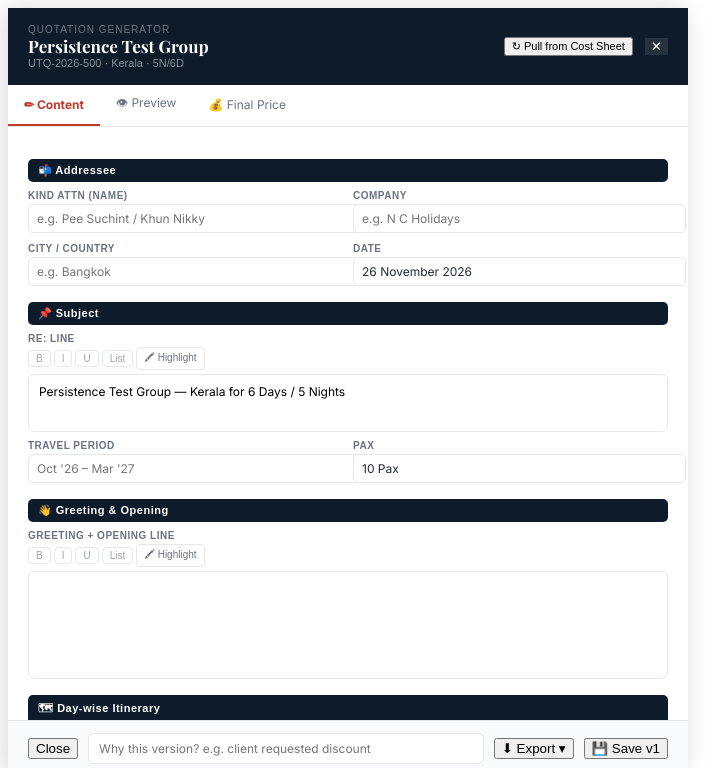
Test: QuotationGenerator: "Pull from Cost Sheet" (#11/#12 -- addressee, itinerary, accommodation, cost without retyping) › a costSheetId that no longer matches any saved version (e.g. that exact version was superseded) still pulls successfully from whatever the latest version now is
The width and height of the screenshot is (708, 768).
Click the button "↻ Pull from Cost Sheet".
click(568, 46)  # box 504,37 -> 633,56
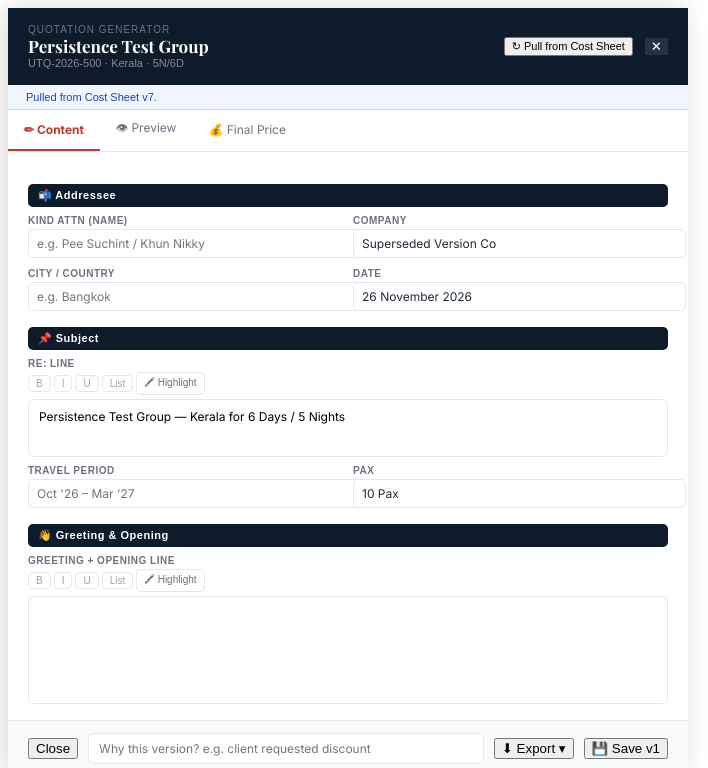
Check: the text "Pulled from Cost Sheet v7." is shown, box 8,85 -> 688,110
